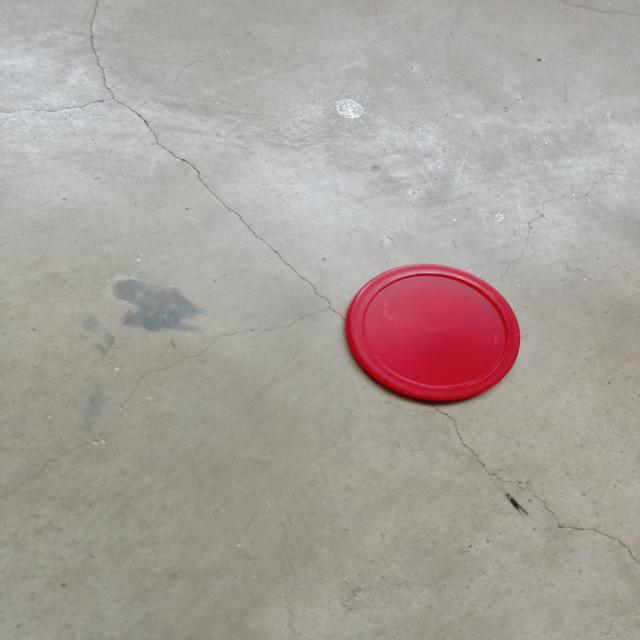chip: (341, 262, 521, 402)
